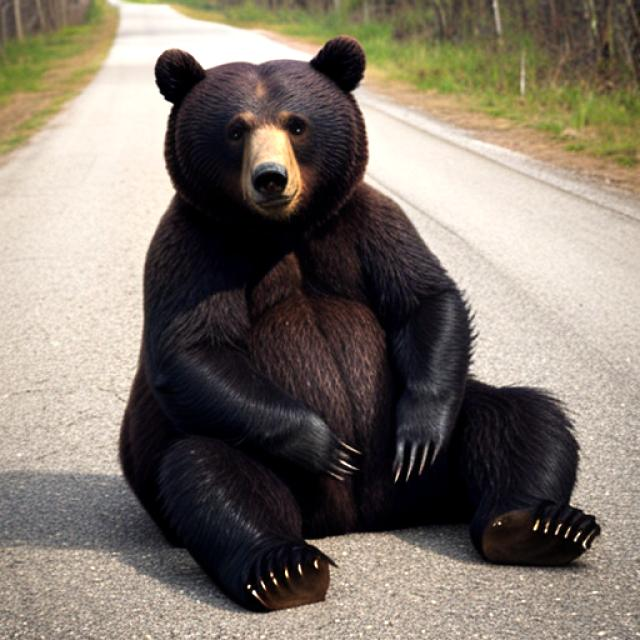bear: (145, 36, 598, 582)
